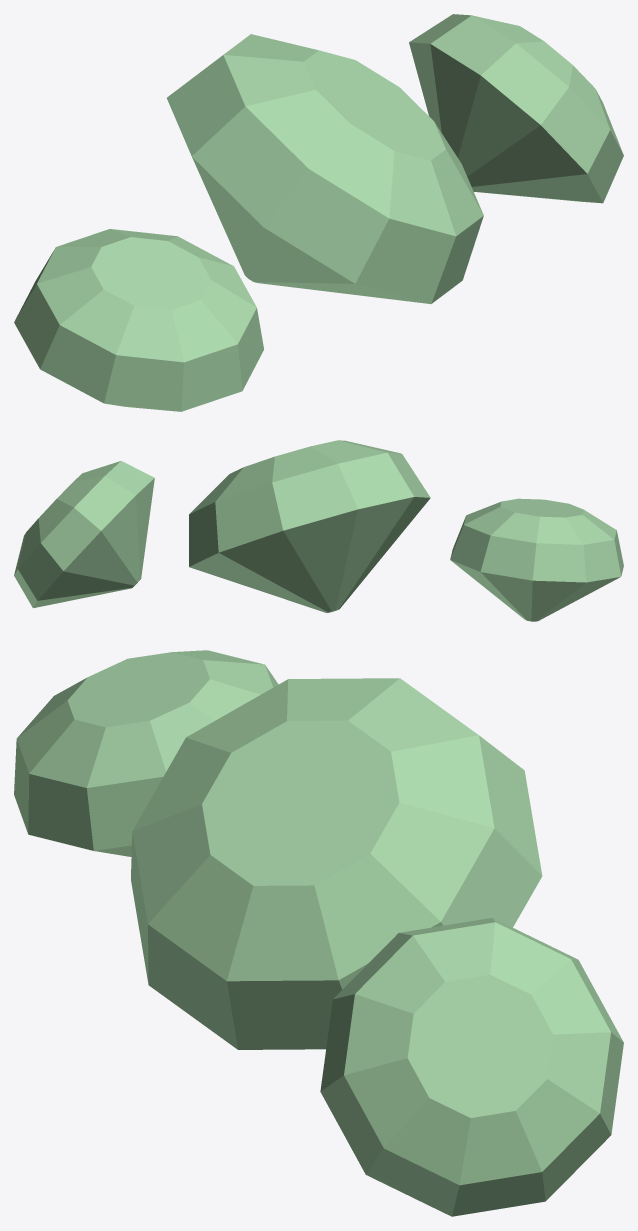
3 views of the same model, one above another, from view 1: azimuth 30°, elevation 25°; view 2: azimuth 150°, elevation 25°; view 3: azimuth 270°, elevation 25° (orthographic). The views are drawn at different scales.
Parts seen in each view (by area): view 1: TI026 / individually faceted stone 1, TI026 / individually faceted stone 0, TI026 / individually faceted stone 2; view 2: TI026 / individually faceted stone 1, TI026 / individually faceted stone 0, TI026 / individually faceted stone 2; view 3: TI026 / individually faceted stone 1, TI026 / individually faceted stone 2, TI026 / individually faceted stone 0.
Part boxes in pixels (x1,y1,x2,y2): TI026 / individually faceted stone 1: (167, 34, 483, 303); TI026 / individually faceted stone 0: (14, 229, 263, 411); TI026 / individually faceted stone 2: (409, 14, 623, 203); TI026 / individually faceted stone 1: (189, 440, 430, 612); TI026 / individually faceted stone 0: (450, 498, 623, 621); TI026 / individually faceted stone 2: (14, 461, 154, 608); TI026 / individually faceted stone 1: (131, 678, 542, 1049); TI026 / individually faceted stone 2: (320, 918, 623, 1216); TI026 / individually faceted stone 0: (14, 650, 278, 856).
Size of the model in its own units: 2.54 by 0.8889 by 1.57.
